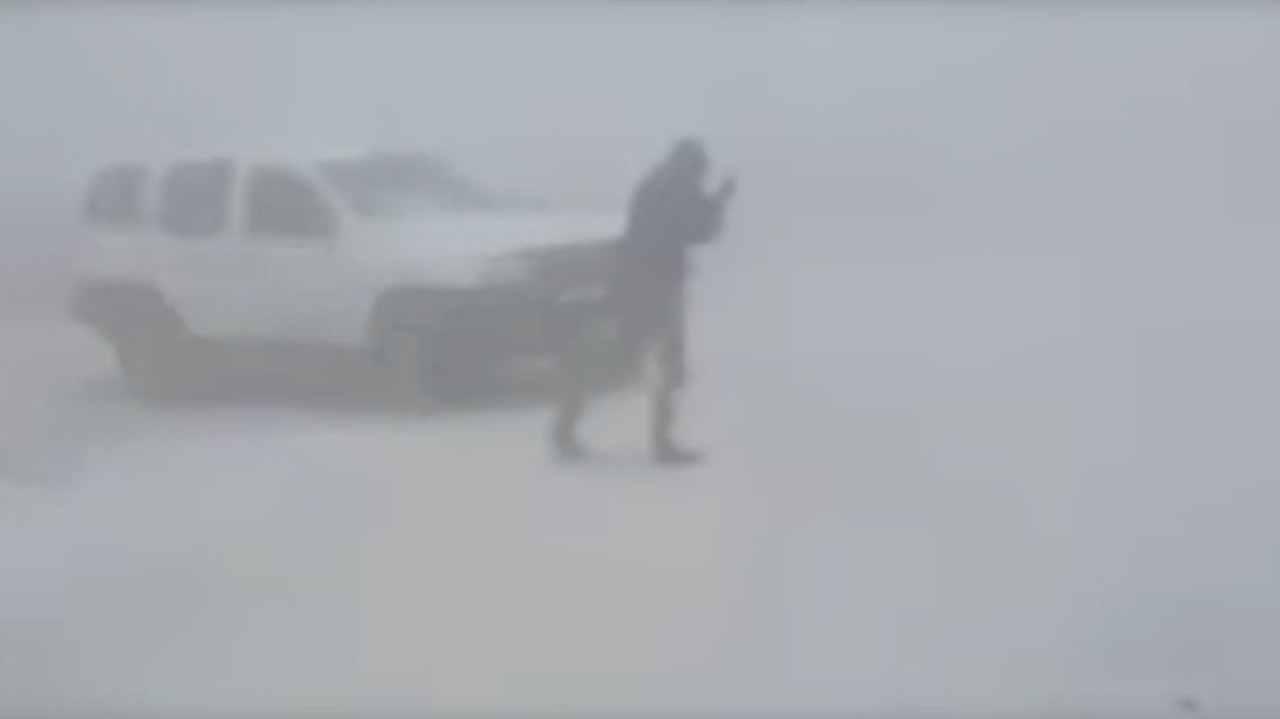car: (75, 138, 651, 402)
person: (553, 138, 735, 470)
